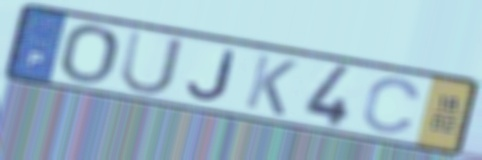4: (301, 61, 353, 130)
C: (359, 75, 424, 136)
J: (185, 47, 239, 104)
K: (241, 51, 301, 119)
O: (57, 23, 122, 86)
U: (117, 27, 187, 98)
